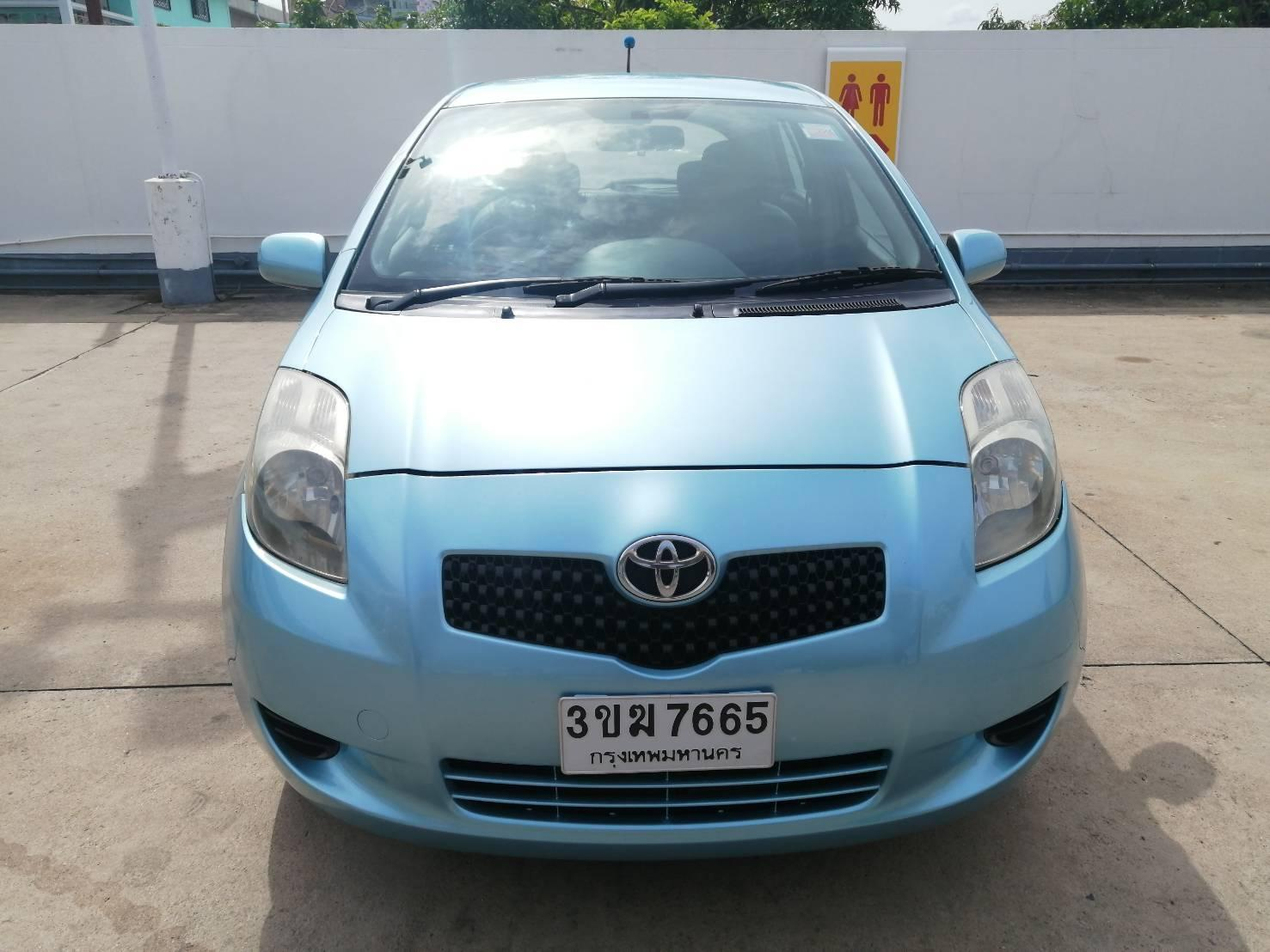license-plate: (550, 687, 786, 780)
